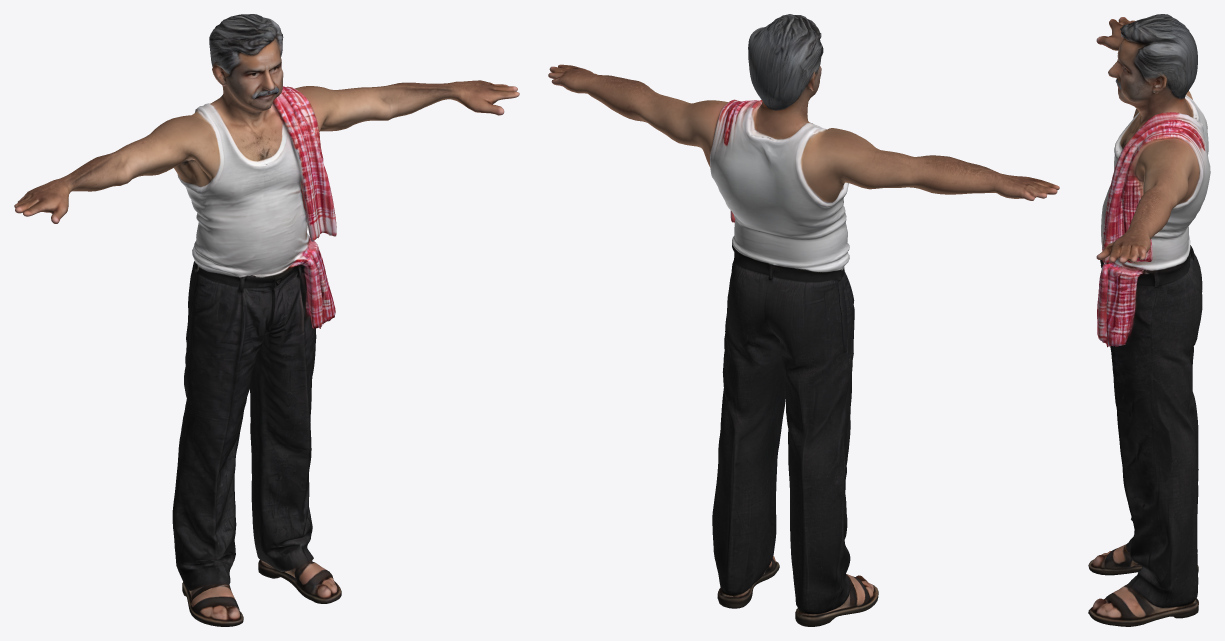
File: hyper3d-indian-uncle-tpose.glb
The picture shows the model from 3 angles, left to right: view 1: azimuth 30°, elevation 25°; view 2: azimuth 150°, elevation 25°; view 3: azimuth 270°, elevation 25°; orthographic projection.
Parts seen in each view (by area): view 1: model; view 2: model; view 3: model.
Boxes of the visible parts, x1,y1,x2,y2 form: model: (14,14,519,626); model: (548,14,1059,626); model: (1088,14,1210,626).
Size of the model in its own units: 1.73 by 1.9 by 0.3656.
1 material, 1 textured.
